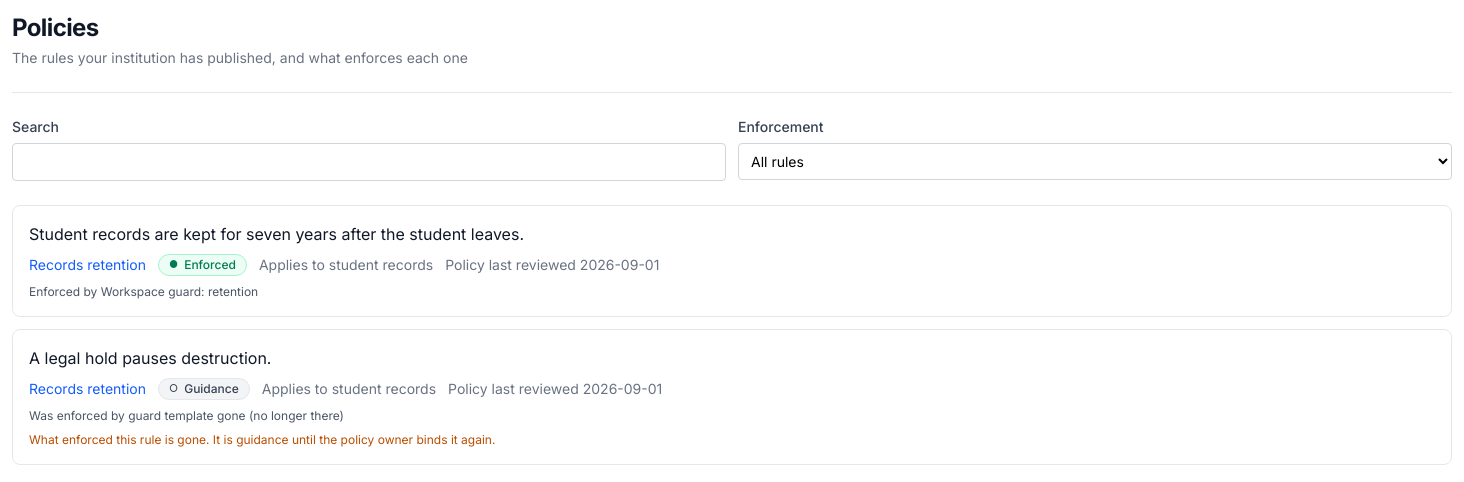
Test case: Policies page › opens a policy from its link and lists its sources as links that open in a new tab
Click the 1st button "Records retention". click: x=88, y=265
box: [29,255,146,275]
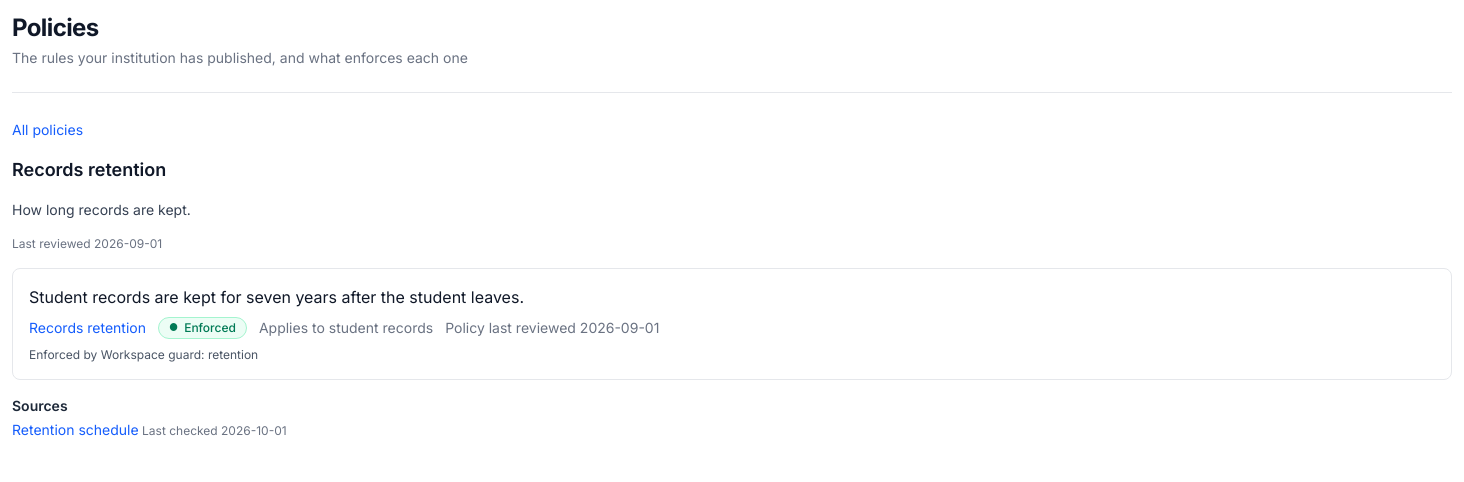
Check: the text "How long records are kept." is shown, box [12,201,191,218]
Check: the text "Last checked 2026-10-01" is shown, box [139,423,287,438]
